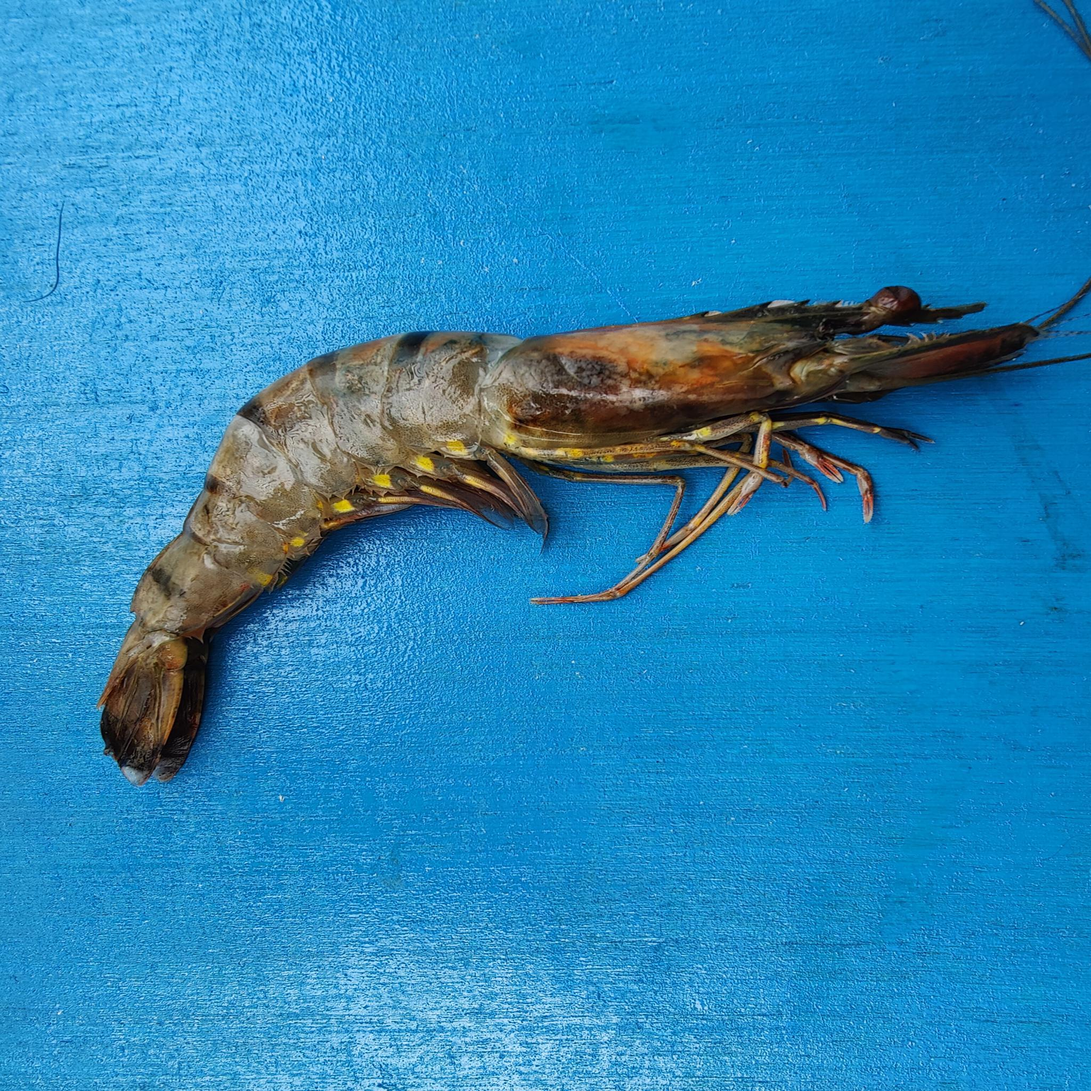blackgill: (501, 333, 734, 438)
